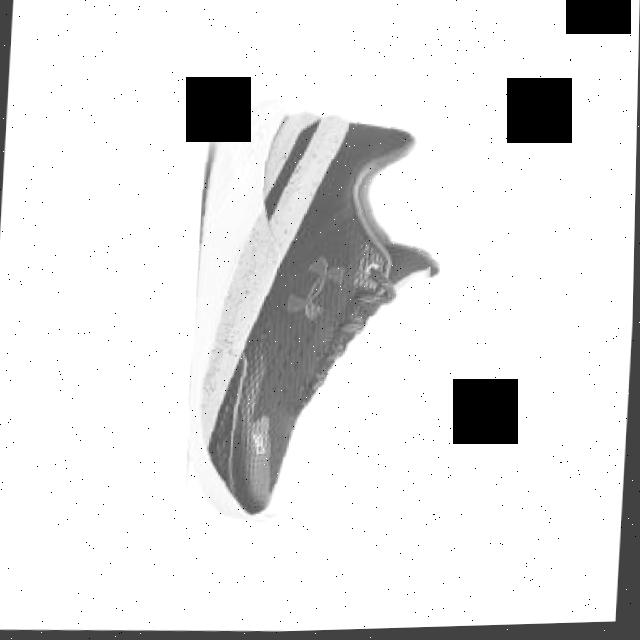shoe: (185, 90, 448, 531)
